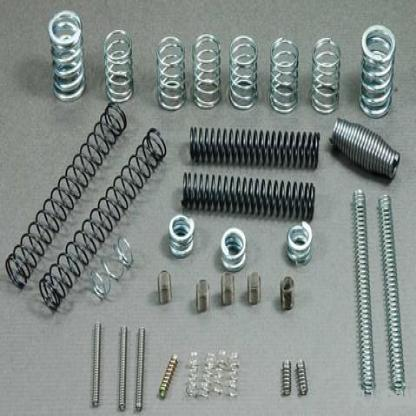FOD: (37, 127, 167, 314), (3, 100, 128, 292), (180, 170, 317, 220), (187, 124, 322, 172), (377, 192, 408, 398), (351, 186, 378, 398), (329, 116, 401, 180), (355, 24, 398, 120), (49, 6, 86, 104), (226, 32, 261, 113), (309, 36, 343, 118), (102, 24, 134, 107), (191, 30, 223, 111), (154, 32, 186, 112), (269, 36, 300, 118), (283, 220, 315, 267), (167, 211, 195, 260), (219, 226, 247, 274), (90, 318, 104, 412), (135, 322, 147, 412), (158, 361, 182, 399), (277, 273, 297, 314), (118, 320, 127, 409), (192, 279, 212, 316), (186, 350, 200, 400), (155, 266, 172, 307), (245, 270, 263, 308), (218, 272, 236, 310), (294, 356, 310, 398), (281, 357, 292, 398)
